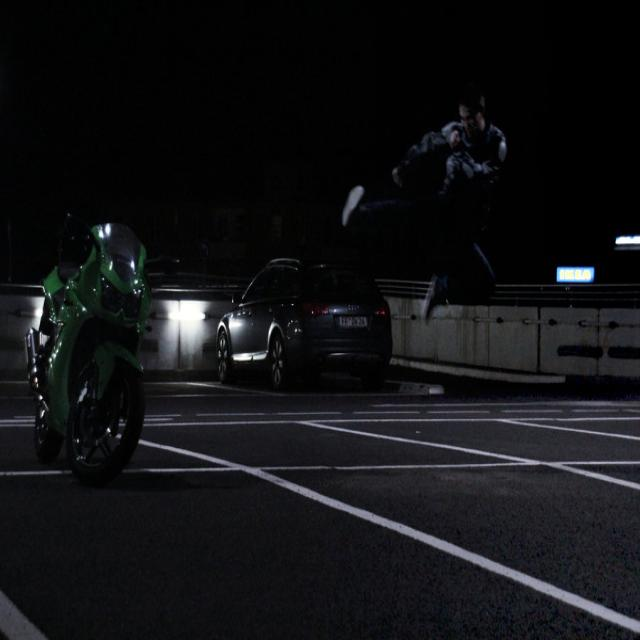Car: (204, 228, 440, 439)
Motorbike: (0, 206, 161, 456)
